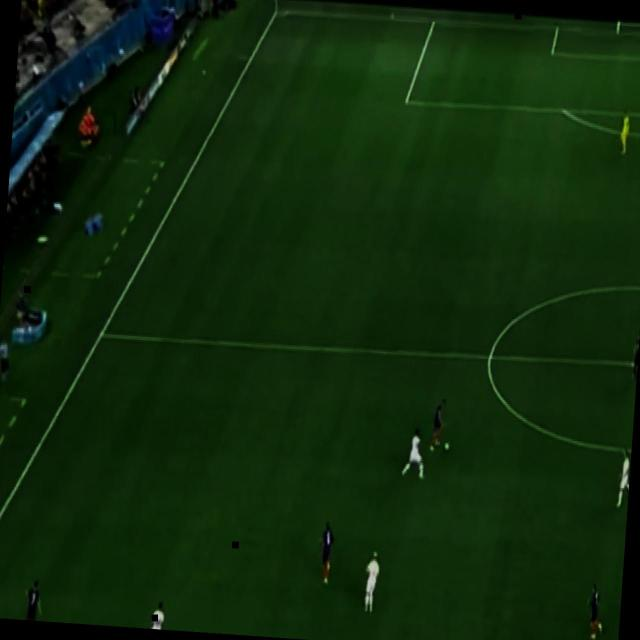ball: (444, 437, 453, 457)
player-white: (398, 422, 430, 485), (360, 546, 383, 620), (315, 516, 336, 592), (583, 581, 607, 640), (428, 391, 450, 455), (612, 446, 632, 514), (18, 571, 44, 621), (617, 102, 634, 158), (628, 323, 640, 383), (146, 596, 167, 630), (380, 637, 401, 640)
